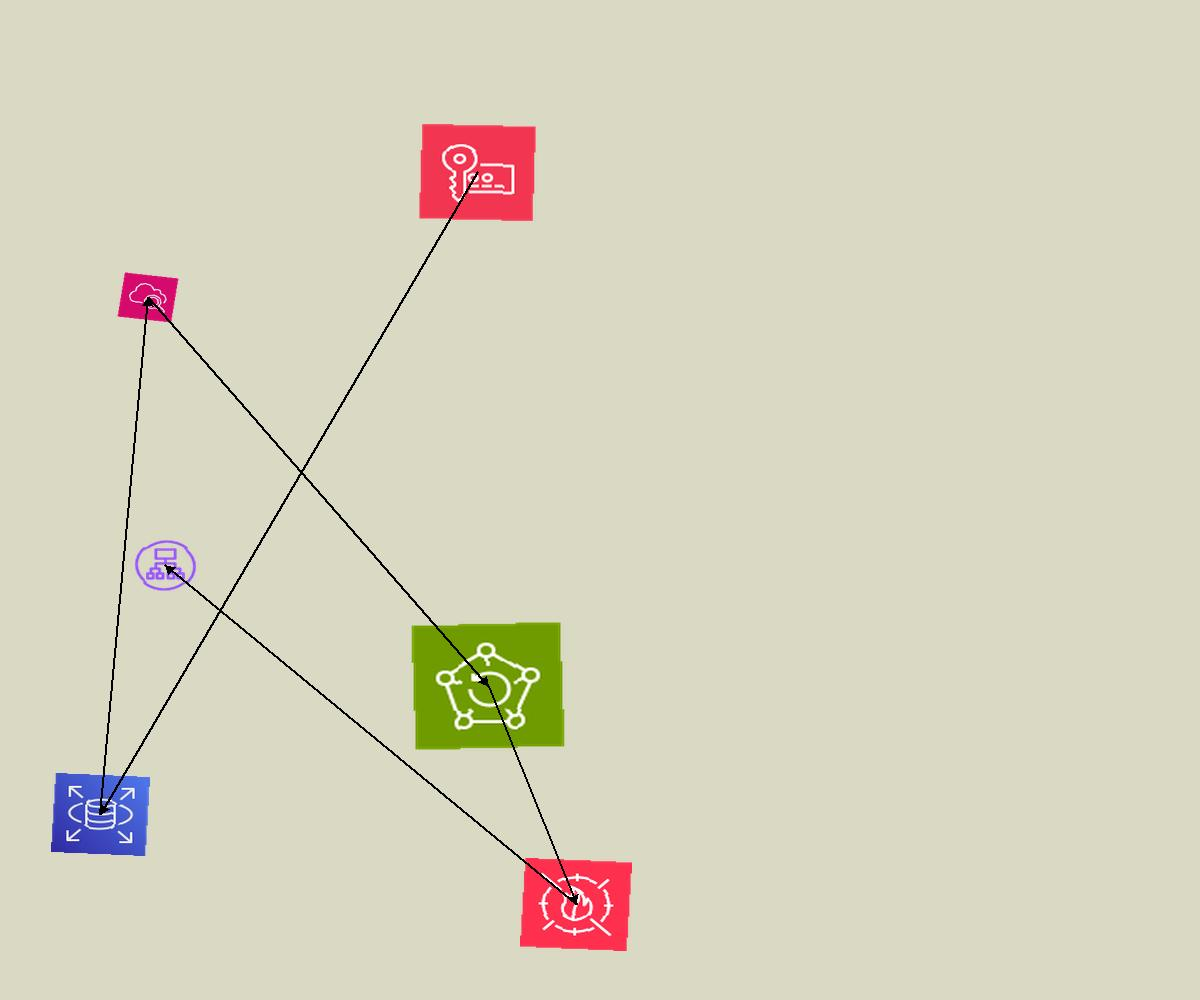AWS-Backup: (410, 621, 566, 751)
AWS-CloudWatch: (117, 272, 179, 323)
AWS-Key-Management-Service: (418, 123, 537, 222)
AWS-RDS: (51, 773, 150, 856)
AWS-Res_Elastic-Load-Balancing_Application-Load-Balancer: (131, 537, 200, 594)
AWS-WAF: (520, 858, 632, 951)
